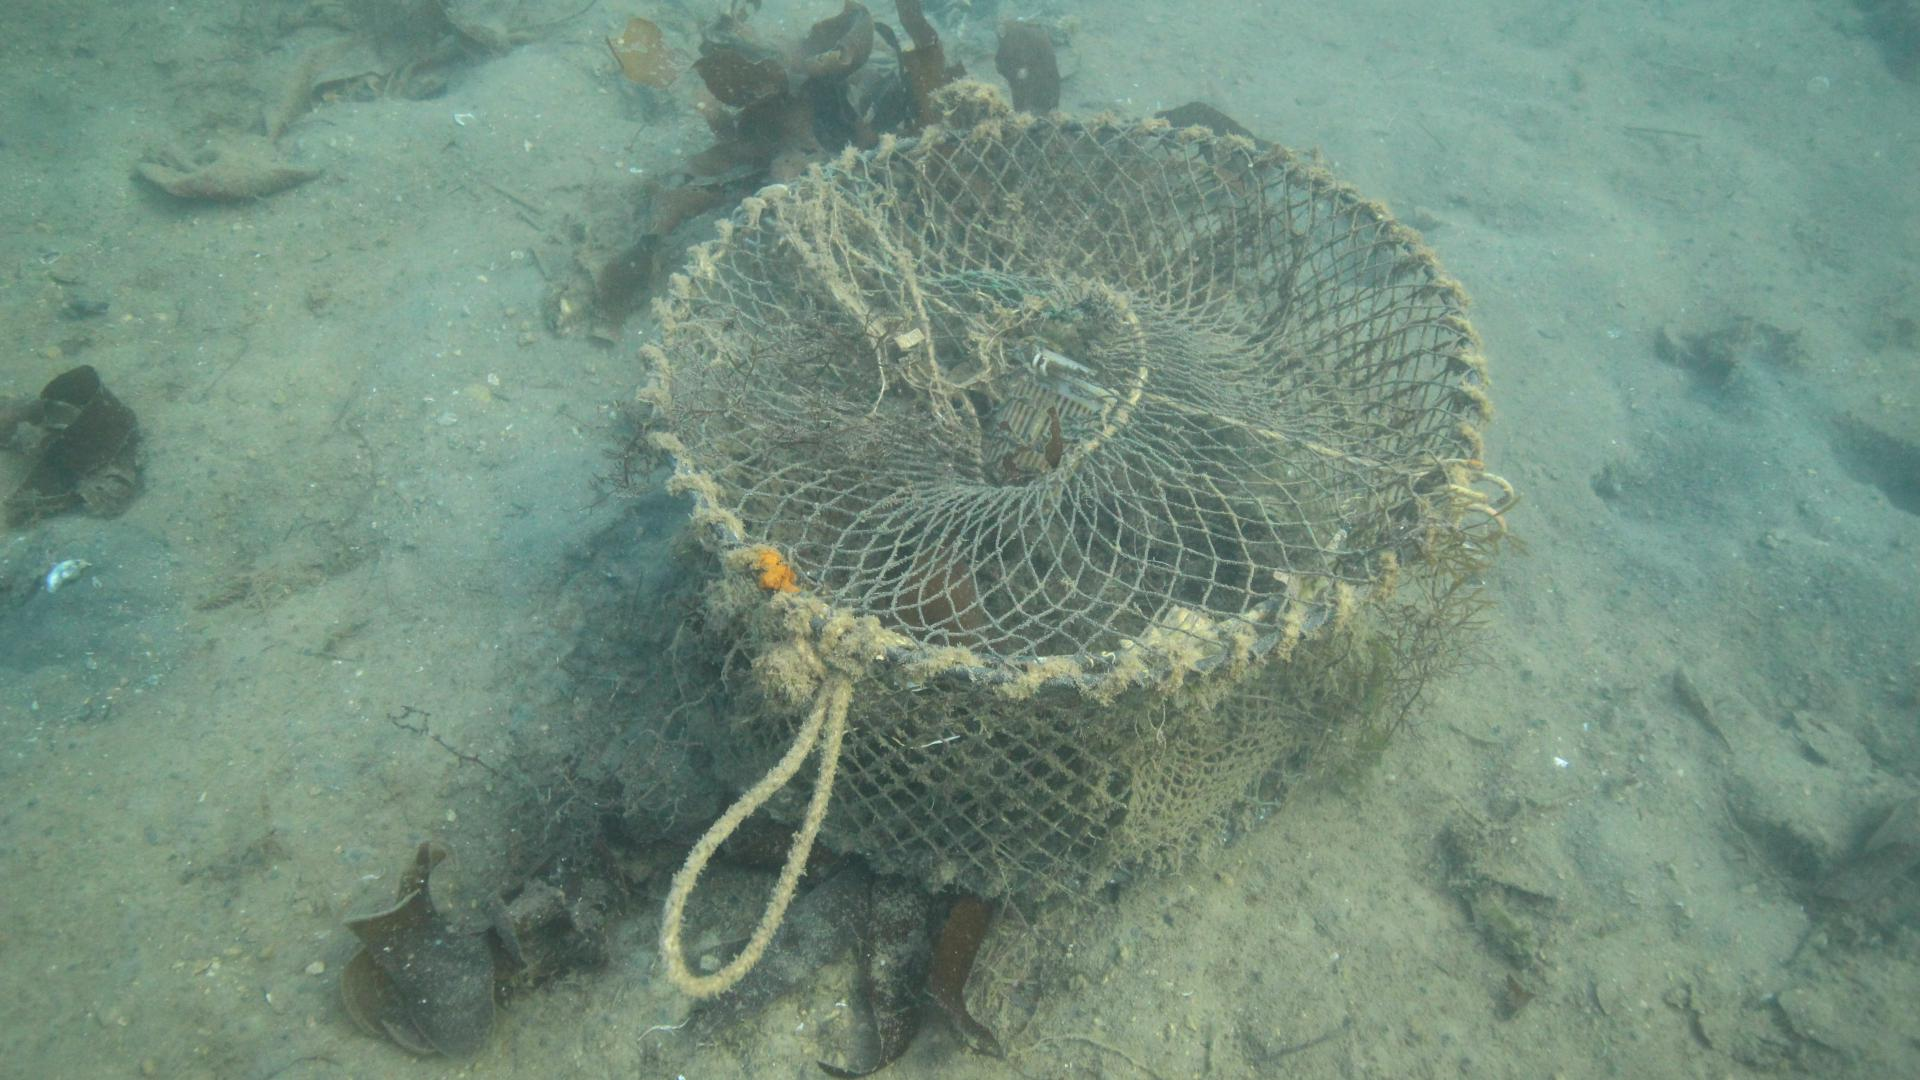circular fish trap: (633, 108, 1487, 902)
rope: (655, 676, 855, 1001)
